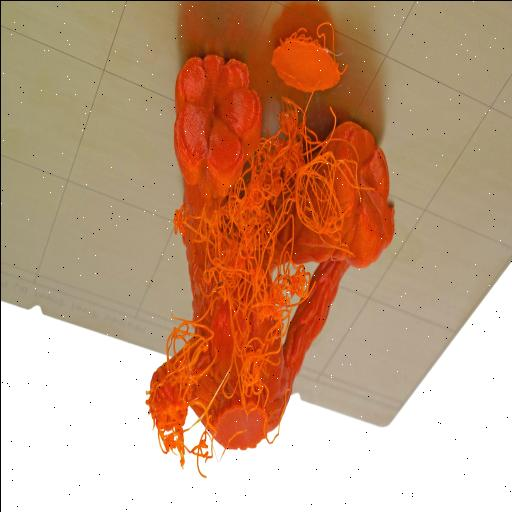spaghetti: (140, 96, 350, 478)
